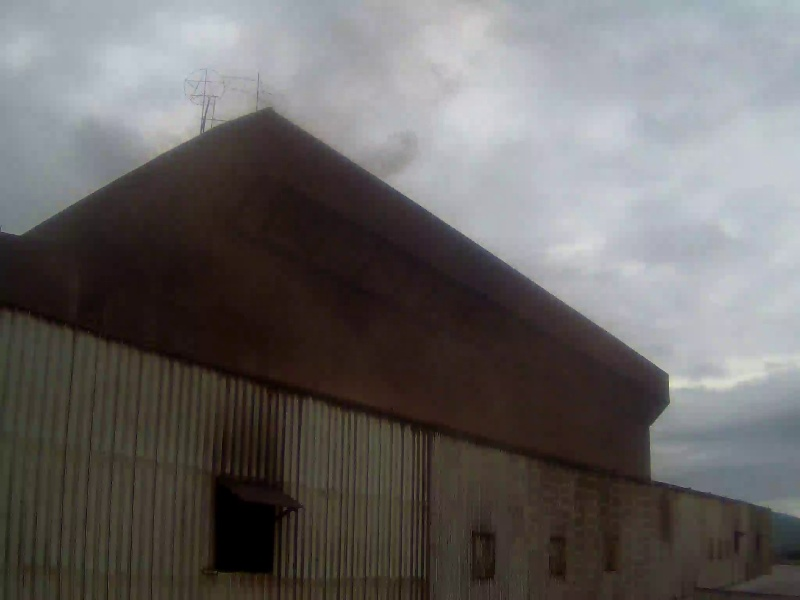bom: (617, 304, 760, 481)
ruim: (260, 30, 698, 485), (4, 15, 276, 200)
